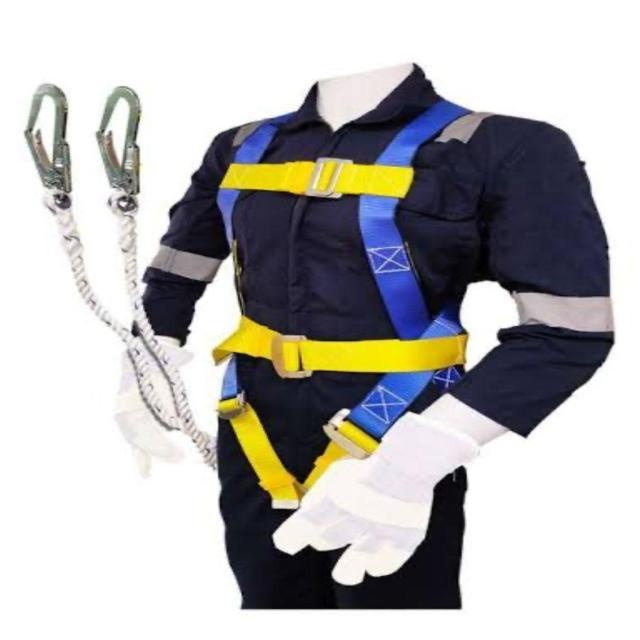Arnes_seguridad: (210, 104, 475, 512)
